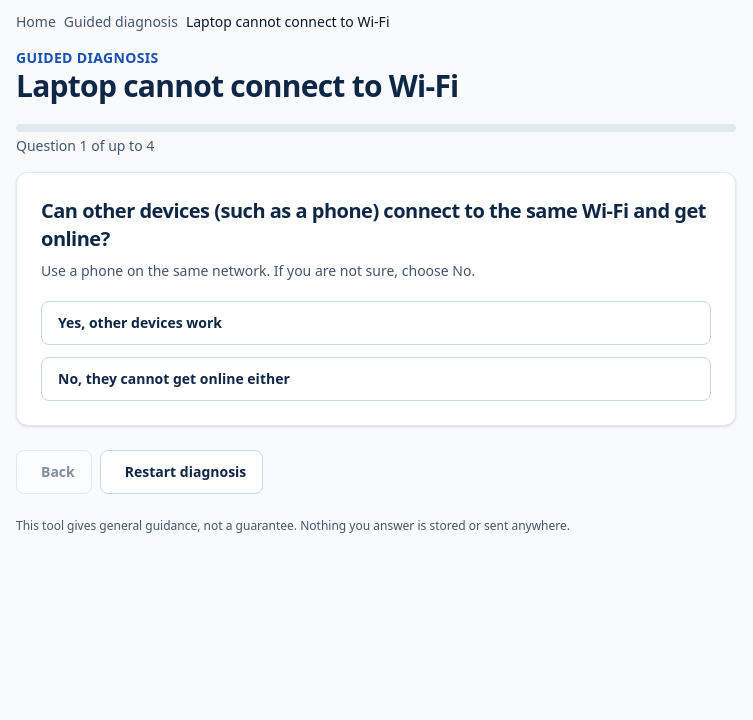
Test: DiagnoseComponent (laptop-wifi flow) › Back returns to the previous question and Restart returns to the start
What coordinates should you click on to do the following:
click the button "Yes, other devices work"
I would click on:
 (140, 322)
Its box is left=41, top=301, right=711, bottom=345.
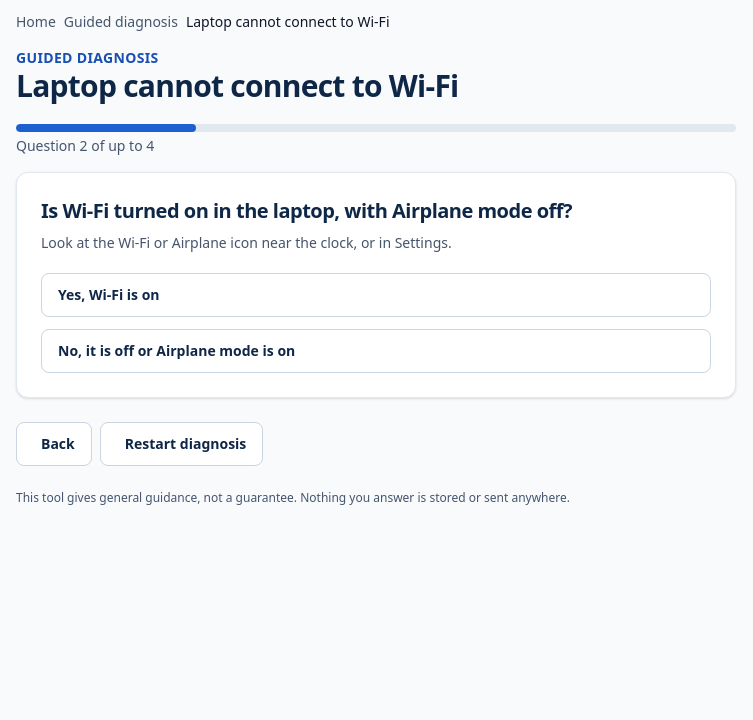
What coordinates should you click on to do the following:
click the button "Back"
I would click on:
 (54, 444)
Its box is left=16, top=422, right=92, bottom=466.
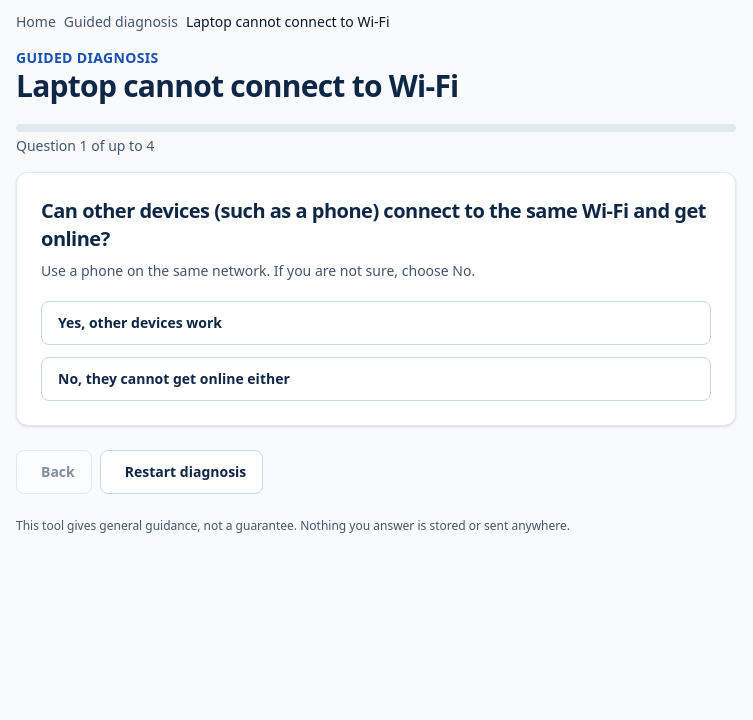
Check: the 2nd heading shows "Can other devices", box left=41, top=197, right=706, bottom=252
What coordinates should you click on to do the following:
click the button "Yes, other devices work"
I would click on:
 (140, 322)
Its box is left=41, top=301, right=711, bottom=345.
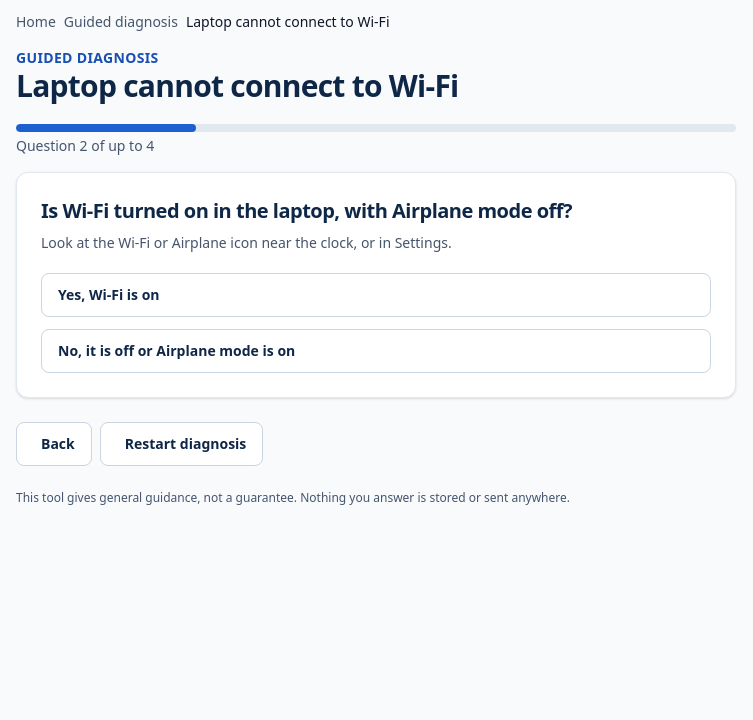
What coordinates should you click on to do the following:
click the button "No, it is off or Airplane mode is on"
I would click on:
 (177, 350)
Its box is left=41, top=329, right=711, bottom=373.
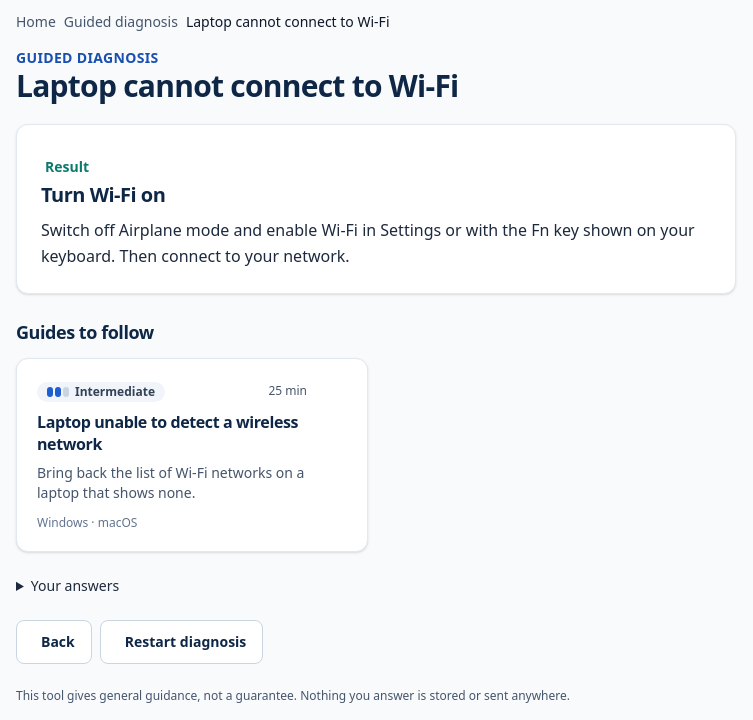
Check: the text "Turn Wi-Fi on" is shown, box left=41, top=181, right=165, bottom=208
What coordinates should you click on to do the following:
click the button "Restart diagnosis"
I would click on:
 (182, 642)
Its box is left=100, top=620, right=263, bottom=664.
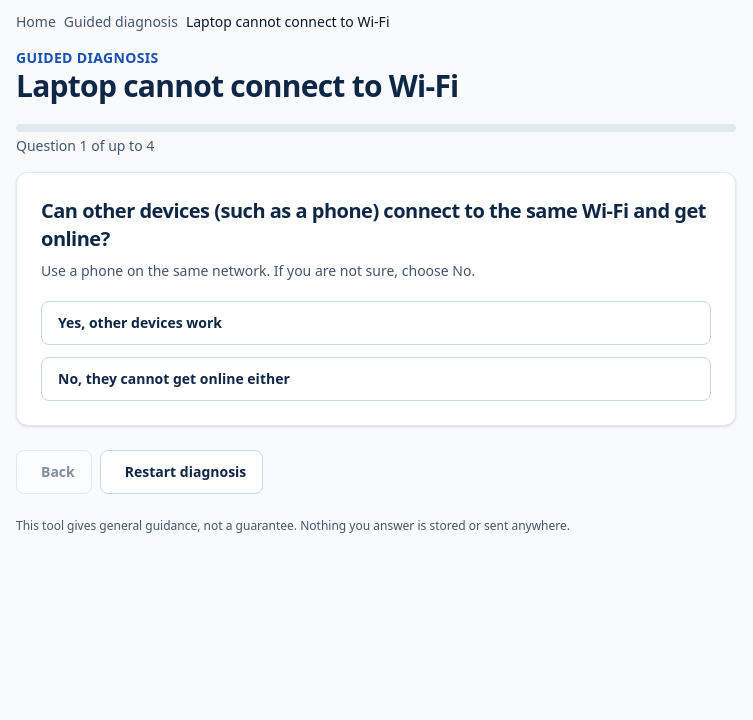
Check: the 2nd heading shows "Can other devices", box left=41, top=197, right=706, bottom=252
